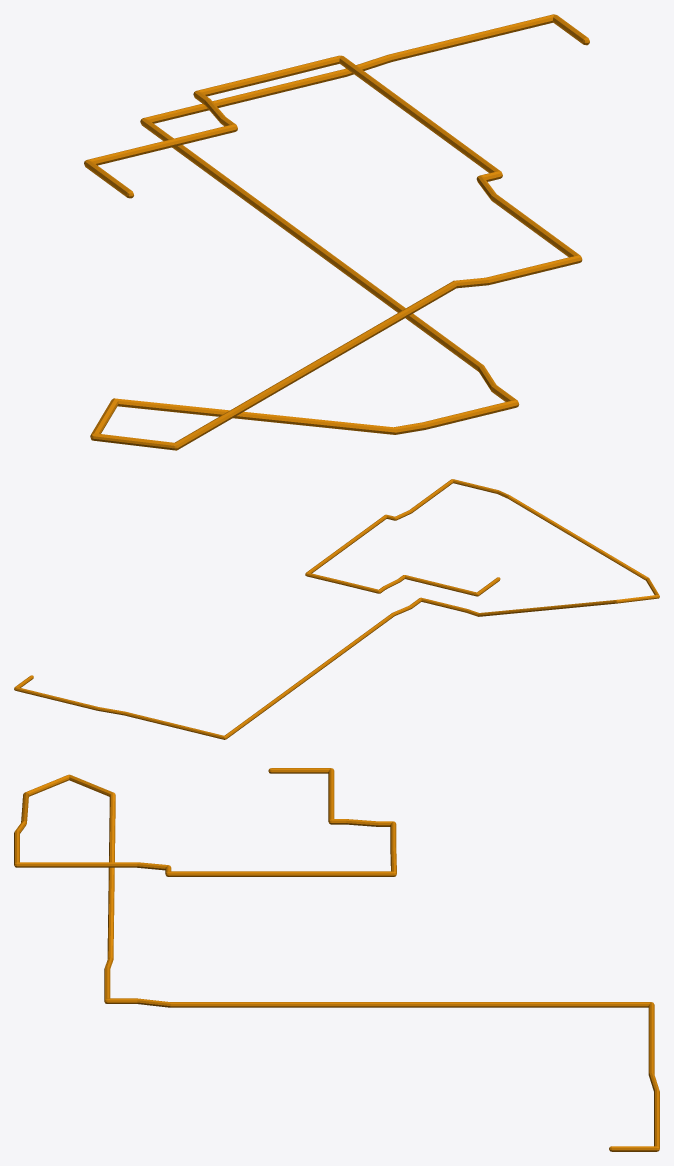
3 renders of one model, top to bottom at view 1: azimuth 30°, elevation 25°; view 2: azimuth 150°, elevation 25°; view 3: azimuth 270°, elevation 25°, orthographic. The views are drawn at different scales.
Bounding box in the file's own units: 2409 × 520 × 2149.
